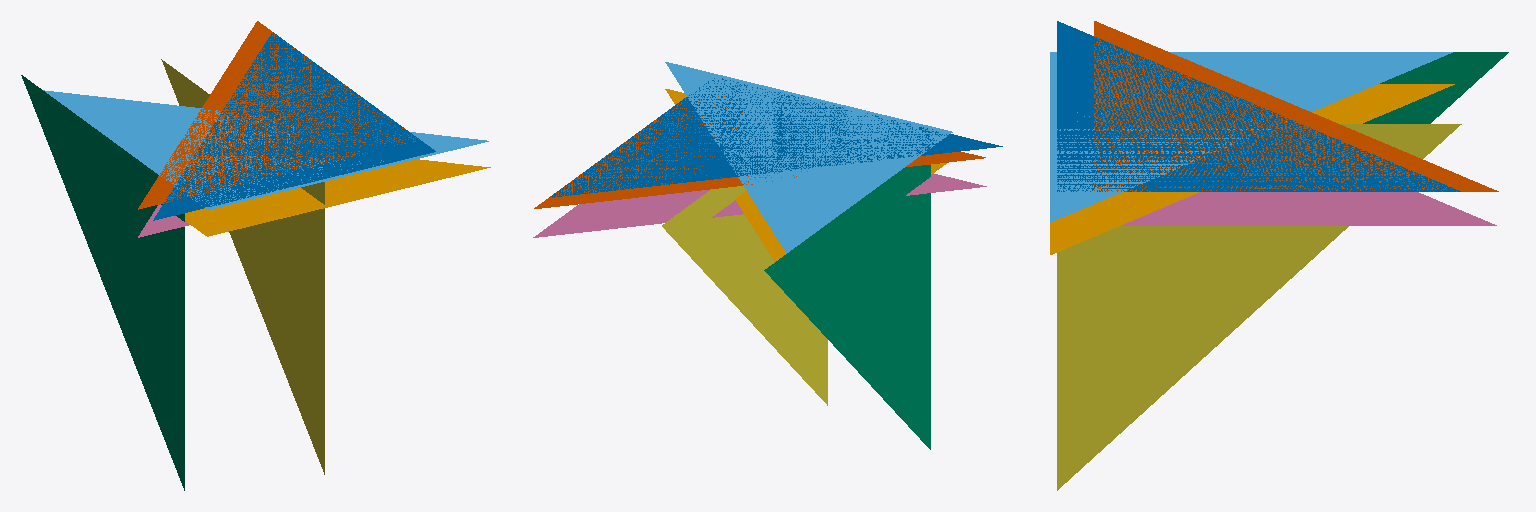
robot.urdf — ur5:
<?xml version="1.0" encoding="utf-8"?>
<!-- =================================================================================== -->
<!-- |    This document was autogenerated by xacro from ur5_robot.urdf.xacro           | -->
<!-- |    EDITING THIS FILE BY HAND IS NOT RECOMMENDED                                 | -->
<!-- =================================================================================== -->
<robot name="ur5" xmlns:xacro="http://wiki.ros.org/xacro">
  <gazebo>
    <plugin filename="libgazebo_ros_control.so" name="ros_control">
    </plugin>
  </gazebo>
  <link name="base_link">
    <visual>
      <geometry>
        <mesh filename="package://example-robot-data/robots/ur_description/meshes/ur5/visual/base.dae"/>
      </geometry>
    </visual>
    <collision>
      <geometry>
        <mesh filename="package://example-robot-data/robots/ur_description/meshes/ur5/collision/base.stl"/>
      </geometry>
    </collision>
    <inertial>
      <mass value="4.0"/>
      <origin rpy="0 0 0" xyz="0.0 0.0 0.0"/>
      <inertia ixx="0.00443333156" ixy="0.0" ixz="0.0" iyy="0.00443333156" iyz="0.0" izz="0.0072"/>
    </inertial>
  </link>
  <joint name="shoulder_pan_joint" type="revolute">
    <parent link="base_link"/>
    <child link="shoulder_link"/>
    <origin rpy="0.0 0.0 0.0" xyz="0.0 0.0 0.089159"/>
    <axis xyz="0 0 1"/>
    <limit effort="150.0" lower="-6.28318530718" upper="6.28318530718" velocity="3.15"/>
    <dynamics damping="0.0" friction="0.0"/>
  </joint>
  <link name="shoulder_link">
    <visual>
      <geometry>
        <mesh filename="package://example-robot-data/robots/ur_description/meshes/ur5/visual/shoulder.dae"/>
      </geometry>
    </visual>
    <collision>
      <geometry>
        <mesh filename="package://example-robot-data/robots/ur_description/meshes/ur5/collision/shoulder.stl"/>
      </geometry>
    </collision>
    <inertial>
      <mass value="3.7"/>
      <origin rpy="0 0 0" xyz="0.0 0.0 0.0"/>
      <inertia ixx="0.010267495893" ixy="0.0" ixz="0.0" iyy="0.010267495893" iyz="0.0" izz="0.00666"/>
    </inertial>
  </link>
  <joint name="shoulder_lift_joint" type="revolute">
    <parent link="shoulder_link"/>
    <child link="upper_arm_link"/>
    <origin rpy="0.0 1.57079632679 0.0" xyz="0.0 0.13585 0.0"/>
    <axis xyz="0 1 0"/>
    <limit effort="150.0" lower="-6.28318530718" upper="6.28318530718" velocity="3.15"/>
    <dynamics damping="0.0" friction="0.0"/>
  </joint>
  <link name="upper_arm_link">
    <visual>
      <geometry>
        <mesh filename="package://example-robot-data/robots/ur_description/meshes/ur5/visual/upperarm.dae"/>
      </geometry>
    </visual>
    <collision>
      <geometry>
        <mesh filename="package://example-robot-data/robots/ur_description/meshes/ur5/collision/upperarm.stl"/>
      </geometry>
    </collision>
    <inertial>
      <mass value="8.393"/>
      <origin rpy="0 0 0" xyz="0.0 0.0 0.28"/>
      <inertia ixx="0.22689067591" ixy="0.0" ixz="0.0" iyy="0.22689067591" iyz="0.0" izz="0.0151074"/>
    </inertial>
  </link>
  <joint name="elbow_joint" type="revolute">
    <parent link="upper_arm_link"/>
    <child link="forearm_link"/>
    <origin rpy="0.0 0.0 0.0" xyz="0.0 -0.1197 0.425"/>
    <axis xyz="0 1 0"/>
    <limit effort="150.0" lower="-3.14159265359" upper="3.14159265359" velocity="3.15"/>
    <dynamics damping="0.0" friction="0.0"/>
  </joint>
  <link name="forearm_link">
    <visual>
      <geometry>
        <mesh filename="package://example-robot-data/robots/ur_description/meshes/ur5/visual/forearm.dae"/>
      </geometry>
    </visual>
    <collision>
      <geometry>
        <mesh filename="package://example-robot-data/robots/ur_description/meshes/ur5/collision/forearm.stl"/>
      </geometry>
    </collision>
    <inertial>
      <mass value="2.275"/>
      <origin rpy="0 0 0" xyz="0.0 0.0 0.25"/>
      <inertia ixx="0.049443313556" ixy="0.0" ixz="0.0" iyy="0.049443313556" iyz="0.0" izz="0.004095"/>
    </inertial>
  </link>
  <joint name="wrist_1_joint" type="revolute">
    <parent link="forearm_link"/>
    <child link="wrist_1_link"/>
    <origin rpy="0.0 1.57079632679 0.0" xyz="0.0 0.0 0.39225"/>
    <axis xyz="0 1 0"/>
    <limit effort="28.0" lower="-6.28318530718" upper="6.28318530718" velocity="3.2"/>
    <dynamics damping="0.0" friction="0.0"/>
  </joint>
  <link name="wrist_1_link">
    <visual>
      <geometry>
        <mesh filename="package://example-robot-data/robots/ur_description/meshes/ur5/visual/wrist1.dae"/>
      </geometry>
    </visual>
    <collision>
      <geometry>
        <mesh filename="package://example-robot-data/robots/ur_description/meshes/ur5/collision/wrist1.stl"/>
      </geometry>
    </collision>
    <inertial>
      <mass value="1.219"/>
      <origin rpy="0 0 0" xyz="0.0 0.0 0.0"/>
      <inertia ixx="0.111172755531" ixy="0.0" ixz="0.0" iyy="0.111172755531" iyz="0.0" izz="0.21942"/>
    </inertial>
  </link>
  <joint name="wrist_2_joint" type="revolute">
    <parent link="wrist_1_link"/>
    <child link="wrist_2_link"/>
    <origin rpy="0.0 0.0 0.0" xyz="0.0 0.093 0.0"/>
    <axis xyz="0 0 1"/>
    <limit effort="28.0" lower="-6.28318530718" upper="6.28318530718" velocity="3.2"/>
    <dynamics damping="0.0" friction="0.0"/>
  </joint>
  <link name="wrist_2_link">
    <visual>
      <geometry>
        <mesh filename="package://example-robot-data/robots/ur_description/meshes/ur5/visual/wrist2.dae"/>
      </geometry>
    </visual>
    <collision>
      <geometry>
        <mesh filename="package://example-robot-data/robots/ur_description/meshes/ur5/collision/wrist2.stl"/>
      </geometry>
    </collision>
    <inertial>
      <mass value="1.219"/>
      <origin rpy="0 0 0" xyz="0.0 0.0 0.0"/>
      <inertia ixx="0.111172755531" ixy="0.0" ixz="0.0" iyy="0.111172755531" iyz="0.0" izz="0.21942"/>
    </inertial>
  </link>
  <joint name="wrist_3_joint" type="revolute">
    <parent link="wrist_2_link"/>
    <child link="wrist_3_link"/>
    <origin rpy="0.0 0.0 0.0" xyz="0.0 0.0 0.09465"/>
    <axis xyz="0 1 0"/>
    <limit effort="28.0" lower="-6.28318530718" upper="6.28318530718" velocity="3.2"/>
    <dynamics damping="0.0" friction="0.0"/>
  </joint>
  <link name="wrist_3_link">
    <visual>
      <geometry>
        <mesh filename="package://example-robot-data/robots/ur_description/meshes/ur5/visual/wrist3.dae"/>
      </geometry>
    </visual>
    <collision>
      <geometry>
        <mesh filename="package://example-robot-data/robots/ur_description/meshes/ur5/collision/wrist3.stl"/>
      </geometry>
    </collision>
    <inertial>
      <mass value="0.1879"/>
      <origin rpy="0 0 0" xyz="0.0 0.0 0.0"/>
      <inertia ixx="0.0171364731454" ixy="0.0" ixz="0.0" iyy="0.0171364731454" iyz="0.0" izz="0.033822"/>
    </inertial>
  </link>
  <joint name="ee_fixed_joint" type="fixed">
    <parent link="wrist_3_link"/>
    <child link="ee_link"/>
    <origin rpy="0.0 0.0 1.57079632679" xyz="0.0 0.0823 0.0"/>
  </joint>
  <link name="ee_link">
    <inertial>
      <mass value="0"/>
      <origin rpy="0 0 0" xyz="0 0 0"/>
      <inertia ixx="0" ixy="0" ixz="0" iyy="0" iyz="0" izz="0"/>
    </inertial>
    <collision>
      <geometry>
        <box size="0.01 0.01 0.01"/>
      </geometry>
      <origin rpy="0 0 0" xyz="-0.01 0 0"/>
    </collision>
  </link>
  <joint name="base_link-base_fixed_joint" type="fixed">
    <origin rpy="0 0 -3.14159265359" xyz="0 0 0"/>
    <parent link="base_link"/>
    <child link="base"/>
  </joint>
  <link name="base">
    <inertial>
      <mass value="0"/>
      <origin rpy="0 0 0" xyz="0 0 0"/>
      <inertia ixx="0" ixy="0" ixz="0" iyy="0" iyz="0" izz="0"/>
    </inertial>
  </link>
  <joint name="wrist_3_link-tool0_fixed_joint" type="fixed">
    <origin rpy="-1.57079632679 0 0" xyz="0 0.0823 0"/>
    <parent link="wrist_3_link"/>
    <child link="tool0"/>
  </joint>
  <link name="tool0">
    <inertial>
      <mass value="0"/>
      <origin rpy="0 0 0" xyz="0 0 0"/>
      <inertia ixx="0" ixy="0" ixz="0" iyy="0" iyz="0" izz="0"/>
    </inertial>
  </link>
  <link name="world"/>
  <joint name="world_joint" type="fixed">
    <parent link="world"/>
    <child link="base_link"/>
    <origin rpy="0.0 0.0 0.0" xyz="0.0 0.0 0.0"/>
  </joint>
</robot>

--- Render facts (derived) ---
Views: 3 orthographic renders of the robot side by side, from view 1: azimuth 30°, elevation 25°; view 2: azimuth 150°, elevation 25°; view 3: azimuth 270°, elevation 25°.
Model ur5 with 11 links and 10 joints (6 revolute, 4 fixed), rooted at world, posed all joints at 0.
Links seen in each view (by area): view 1: upper_arm_link, wrist_1_link, forearm_link, wrist_2_link, shoulder_link, base_link, wrist_3_link; view 2: upper_arm_link, shoulder_link, wrist_1_link, forearm_link, wrist_3_link, wrist_2_link, base_link; view 3: forearm_link, wrist_1_link, wrist_2_link, shoulder_link, wrist_3_link, base_link, upper_arm_link.
Link boxes in pixels (box(x1,y1,x2,y2)): upper_arm_link: box(21, 75, 184, 490); wrist_1_link: box(153, 32, 435, 220); forearm_link: box(161, 59, 324, 474); wrist_2_link: box(138, 21, 418, 209); shoulder_link: box(43, 90, 488, 209); base_link: box(185, 159, 490, 236); wrist_3_link: box(138, 204, 189, 237); upper_arm_link: box(764, 165, 930, 449); shoulder_link: box(665, 62, 952, 253); wrist_1_link: box(549, 78, 1002, 197); forearm_link: box(662, 186, 827, 405); wrist_3_link: box(533, 173, 986, 237); wrist_2_link: box(534, 94, 985, 208); base_link: box(665, 89, 946, 261); forearm_link: box(1057, 124, 1461, 490); wrist_1_link: box(1057, 21, 1460, 191); wrist_2_link: box(1094, 21, 1498, 191); shoulder_link: box(1050, 52, 1452, 222); wrist_3_link: box(1121, 192, 1496, 225); base_link: box(1050, 84, 1454, 254); upper_arm_link: box(1363, 52, 1508, 123).
Size in the robot's own frame: 1.18 by 1.14 by 1 metres.
7 mesh visuals loaded from 7 distinct referenced files (7 Collada DAE).
